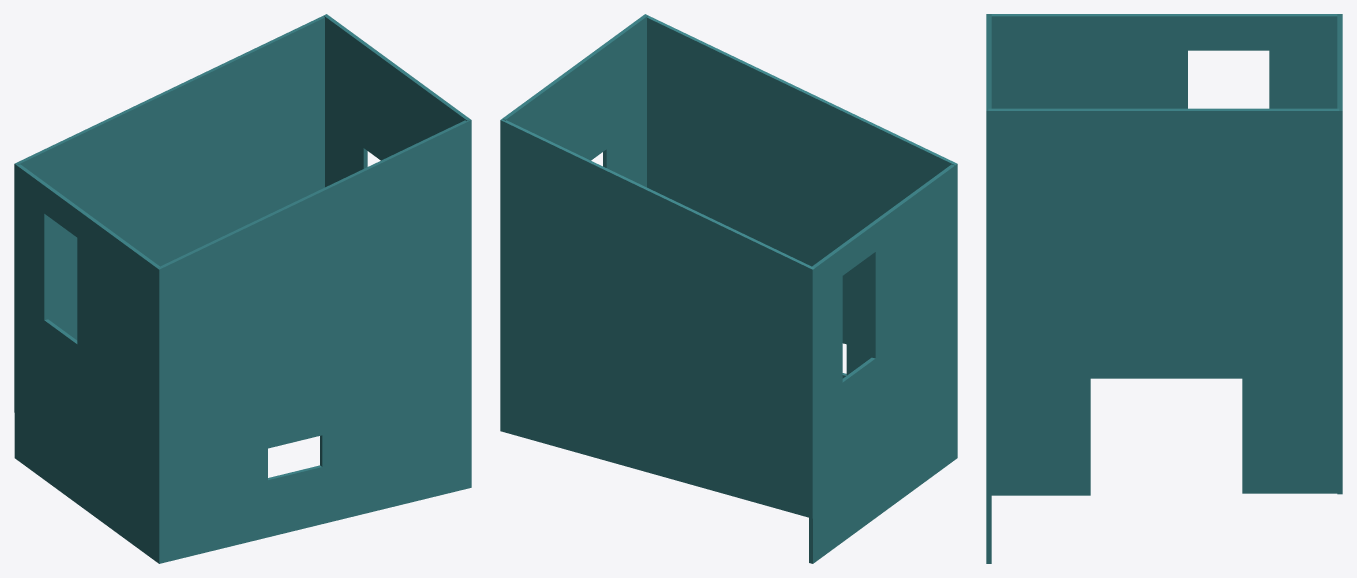
File: Bath Low.fbx
The picture shows the model from 3 angles, left to right: view 1: azimuth 30°, elevation 25°; view 2: azimuth 150°, elevation 25°; view 3: azimuth 270°, elevation 25°; orthographic projection. The views are drawn at different scales.
Parts seen in each view (by area): view 1: bath_04_low, bath_02_low, bath_03_low, bath_01_low; view 2: bath_02_low, bath_04_low, bath_03_low, bath_01_low; view 3: bath_01_low, bath_03_low, bath_04_low, bath_02_low.
Boxes of the visible parts, x1,y1,x2,y2 form: bath_04_low: (157, 119, 471, 563); bath_02_low: (14, 14, 327, 412); bath_03_low: (14, 164, 159, 562); bath_01_low: (324, 15, 470, 187); bath_02_low: (500, 119, 814, 518); bath_04_low: (645, 14, 957, 458); bath_03_low: (809, 164, 956, 563); bath_01_low: (502, 14, 648, 187); bath_01_low: (988, 108, 1339, 495); bath_03_low: (991, 14, 1337, 378); bath_04_low: (986, 14, 991, 563); bath_02_low: (1337, 14, 1342, 494).
Bounding box in the file's own units: 3.05 × 3.43 × 2.45.
